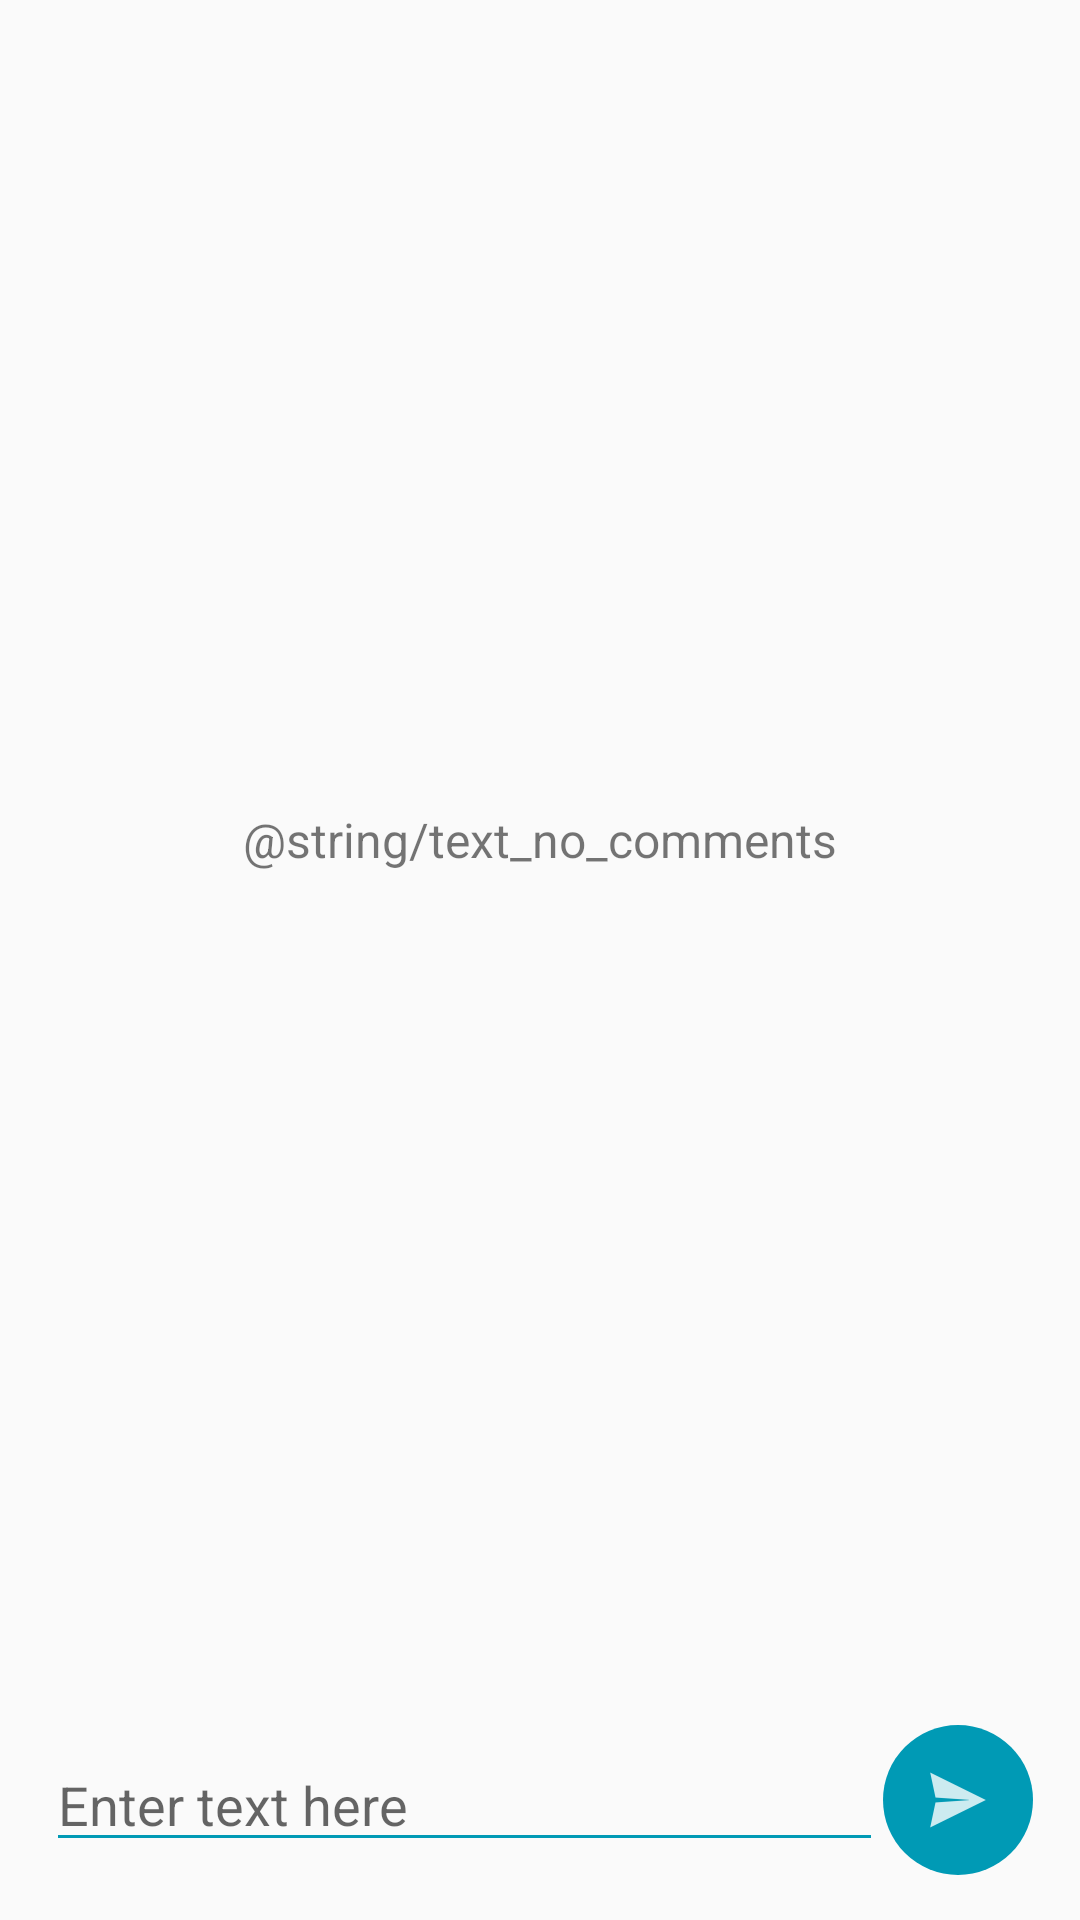

Named icons in this screenshot (1080 x 1920) and their bounding boxes, bbox(x1, y1, x2, y2):
send: bbox(883, 1725, 1033, 1875)
